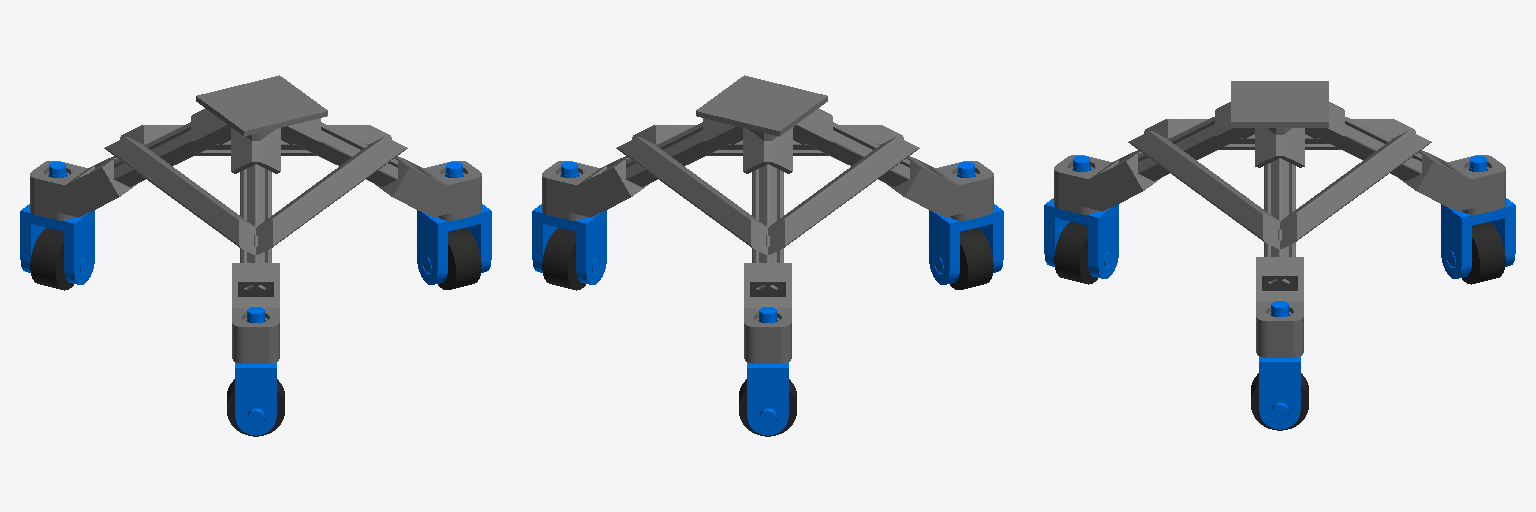
The robot description file, URDF, robot "robot_3d3s":
<?xml version="1.0" encoding="utf-8"?>
<!--
  3-wheeled 3D3S omnidirectional robot
  Each leg: base_link -> steering_N_link (revolute, vertical axis) -> wheel_N_link (continuous)
  Generated using SolidWorks URDF Exporter, edited for correct limits and inertia.
-->
<robot name="robot_3d3s">

  <!-- ====================== BASE FOOTPRINT ====================== -->
  <!-- Virtual ground-plane link at wheel-contact height (z≈0 from base_link). -->
  <link name="base_footprint"/>
  <joint name="base_footprint_joint" type="fixed">
    <origin xyz="0 0 0" rpy="0 0 0"/>
    <parent link="base_footprint"/>
    <child link="base_link"/>
  </joint>

  <!-- ======================== BASE LINK ======================== -->
  <!-- Main robot body. All three steering legs attach here. -->
  <link name="base_link">
    <inertial>
      <origin xyz="0.00054034 5.1289E-09 0.28559" rpy="0 0 0" />
      <mass value="6.0461" />
      <inertia
        ixx="0.02261"  ixy="1.2023E-09" ixz="2.1633E-10"
        iyy="0.02261"  iyz="-4.0683E-10"
        izz="0.039117" />
    </inertial>
    <visual>
      <origin xyz="0 0 0" rpy="0 0 0" />
      <geometry>
        <mesh filename="package://robot_3d3s/meshes/base_link.STL" />
      </geometry>
      <material name="">
        <color rgba="0.5 0.5 0.5 1" />
      </material>
    </visual>
    <collision>
      <origin xyz="0 0 0" rpy="0 0 0" />
      <geometry>
        <mesh filename="package://robot_3d3s/meshes/base_link.STL" />
      </geometry>
    </collision>
  </link>

  <!-- ==================== LEG 1 — STEERING ==================== -->
  <!-- Steering assembly for wheel 1 (front). Rotates around vertical Z axis. -->
  <link name="steering_1_link">
    <inertial>
      <origin xyz="0.00045928 -9.1606E-12 0.12605" rpy="0 0 0" />
      <mass value="0.53024" />
      <inertia
        ixx="0.00056656"  ixy="-1.8538E-13" ixz="-7.4564E-08"
        iyy="0.00052285"  iyz="7.8557E-14"
        izz="0.00030054" />
    </inertial>
    <visual>
      <origin xyz="0 0 0" rpy="0 0 0" />
      <geometry>
        <mesh filename="package://robot_3d3s/meshes/steering_1_link.STL" />
      </geometry>
      <material name="">
        <color rgba="0 0.5 1 1" />
      </material>
    </visual>
    <collision>
      <origin xyz="0 0 0" rpy="0 0 0" />
      <geometry>
        <mesh filename="package://robot_3d3s/meshes/steering_1_link.STL" />
      </geometry>
    </collision>
  </link>

  <!--
    Steering joint 1 — revolute around local Z (vertical axis after parent transform).
    Limits: ±2.618 rad (±150°) giving a 300° total range to avoid body collision.
  -->
  <joint name="steering_1_joint" type="revolute">
    <origin xyz="0.38905 0 0.225" rpy="3.1416 0 0" />
    <parent link="base_link" />
    <child  link="steering_1_link" />
    <axis xyz="0 0 1" />
    <limit lower="-2.618" upper="2.618" effort="10" velocity="10" />
  </joint>

  <!-- ==================== LEG 1 — WHEEL ==================== -->
  <!-- Drive wheel 1. Continuous joint — spins freely around its axle. -->
  <link name="wheel_1_link">
    <inertial>
      <origin xyz="-0.025 -2.7756E-17 -5.2963E-19" rpy="0 0 0" />
      <mass value="0.3566" />
      <inertia
        ixx="0.00048671"  ixy="2.1534E-20"  ixz="-6.1158E-21"
        iyy="0.00031774"  iyz="-2.7551E-22"
        izz="0.00031755" />
    </inertial>
    <visual>
      <origin xyz="0 0 0" rpy="0 0 0" />
      <geometry>
        <mesh filename="package://robot_3d3s/meshes/wheel_1_link.STL" />
      </geometry>
      <material name="">
        <color rgba="0.2 0.2 0.2 1" />
      </material>
    </visual>
    <collision>
      <origin xyz="-0.025 0 0" rpy="0 1.5708 0" />
      <geometry>
        <cylinder radius="0.05" length="0.05"/>
      </geometry>
    </collision>
  </link>

  <!-- Wheel 1 spins around the X axis of this joint frame (perpendicular to wheel face). -->
  <joint name="wheel_1_joint" type="continuous">
    <origin xyz="0.025 0 0.17497" rpy="-1.5708 0 0" />
    <parent link="steering_1_link" />
    <child  link="wheel_1_link" />
    <axis xyz="1 0 0" />
    <limit effort="10" velocity="10" />
  </joint>

  <!-- ==================== LEG 2 — STEERING ==================== -->
  <!-- Steering assembly for wheel 2 (rear-left), offset 120° from leg 1. -->
  <link name="steering_2_link">
    <inertial>
      <origin xyz="0.00045928 -8.9114E-12 0.12605" rpy="0 0 0" />
      <mass value="0.53024" />
      <inertia
        ixx="0.00056656"  ixy="-1.8531E-13" ixz="-7.4564E-08"
        iyy="0.00052285"  iyz="7.8355E-14"
        izz="0.00030054" />
    </inertial>
    <visual>
      <origin xyz="0 0 0" rpy="0 0 0" />
      <geometry>
        <mesh filename="package://robot_3d3s/meshes/steering_2_link.STL" />
      </geometry>
      <material name="">
        <color rgba="0 0.5 1 1" />
      </material>
    </visual>
    <collision>
      <origin xyz="0 0 0" rpy="0 0 0" />
      <geometry>
        <mesh filename="package://robot_3d3s/meshes/steering_2_link.STL" />
      </geometry>
    </collision>
  </link>

  <!-- Steering joint 2 — same limits as joint 1. -->
  <joint name="steering_2_joint" type="revolute">
    <origin xyz="-0.19453 0.33693 0.225" rpy="3.1416 0 2.0944" />
    <parent link="base_link" />
    <child  link="steering_2_link" />
    <axis xyz="0 0 1" />
    <limit lower="-2.618" upper="2.618" effort="10" velocity="10" />
  </joint>

  <!-- ==================== LEG 2 — WHEEL ==================== -->
  <!-- Drive wheel 2 — continuous, same inertia as wheel 1. -->
  <link name="wheel_2_link">
    <inertial>
      <origin xyz="-0.025 0 5.5511E-17" rpy="0 0 0" />
      <mass value="0.3566" />
      <inertia
        ixx="0.00048671"  ixy="2.2267E-20"  ixz="4.0658E-20"
        iyy="0.00031774"  iyz="-9.0783E-22"
        izz="0.00031755" />
    </inertial>
    <visual>
      <origin xyz="0 0 0" rpy="0 0 0" />
      <geometry>
        <mesh filename="package://robot_3d3s/meshes/wheel_2_link.STL" />
      </geometry>
      <material name="">
        <color rgba="0.2 0.2 0.2 1" />
      </material>
    </visual>
    <collision>
      <origin xyz="-0.025 0 0" rpy="0 1.5708 0" />
      <geometry>
        <cylinder radius="0.05" length="0.05"/>
      </geometry>
    </collision>
  </link>

  <joint name="wheel_2_joint" type="continuous">
    <origin xyz="0.025 0 0.17497" rpy="-1.5708 0 0" />
    <parent link="steering_2_link" />
    <child  link="wheel_2_link" />
    <axis xyz="1 0 0" />
    <limit effort="10" velocity="10" />
  </joint>

  <!-- ==================== LEG 3 — STEERING ==================== -->
  <!--
    Steering assembly for wheel 3 (rear-right), offset 240° from leg 1.
    NOTE: SolidWorks exported zero inertia for this link — fixed by using the
    same measured values as steering_1 and steering_2 (identical part).
  -->
  <link name="steering_3_link">
    <inertial>
      <origin xyz="0.00045928 -9.1606E-12 0.12605" rpy="0 0 0" />
      <mass value="0.53024" />
      <inertia
        ixx="0.00056656"  ixy="-1.8538E-13" ixz="-7.4564E-08"
        iyy="0.00052285"  iyz="7.8557E-14"
        izz="0.00030054" />
    </inertial>
    <visual>
      <origin xyz="0 0 0" rpy="0 0 0" />
      <geometry>
        <mesh filename="package://robot_3d3s/meshes/steering_3_link.STL" />
      </geometry>
      <material name="">
        <color rgba="0 0.5 1 1" />
      </material>
    </visual>
    <collision>
      <origin xyz="0 0 0" rpy="0 0 0" />
      <geometry>
        <mesh filename="package://robot_3d3s/meshes/steering_3_link.STL" />
      </geometry>
    </collision>
  </link>

  <!-- Steering joint 3 — same limits as joints 1 and 2. -->
  <joint name="steering_3_joint" type="revolute">
    <origin xyz="-0.19453 -0.33693 0.225" rpy="3.1416 0 -2.0944" />
    <parent link="base_link" />
    <child  link="steering_3_link" />
    <axis xyz="0 0 1" />
    <limit lower="-2.618" upper="2.618" effort="10" velocity="10" />
  </joint>

  <!-- ==================== LEG 3 — WHEEL ==================== -->
  <!-- Drive wheel 3 — continuous, same inertia as wheels 1 and 2. -->
  <link name="wheel_3_link">
    <inertial>
      <origin xyz="-0.025 -2.7756E-17 0" rpy="0 0 0" />
      <mass value="0.3566" />
      <inertia
        ixx="0.00048671"  ixy="2.3818E-20"  ixz="2.7105E-20"
        iyy="0.00031774"  iyz="-1.7287E-21"
        izz="0.00031755" />
    </inertial>
    <visual>
      <origin xyz="0 0 0" rpy="0 0 0" />
      <geometry>
        <mesh filename="package://robot_3d3s/meshes/wheel_3_link.STL" />
      </geometry>
      <material name="">
        <color rgba="0.2 0.2 0.2 1" />
      </material>
    </visual>
    <collision>
      <origin xyz="-0.025 0 0" rpy="0 1.5708 0" />
      <geometry>
        <cylinder radius="0.05" length="0.05"/>
      </geometry>
    </collision>
  </link>

  <joint name="wheel_3_joint" type="continuous">
    <origin xyz="0.025 0 0.17497" rpy="-1.5708 0 0" />
    <parent link="steering_3_link" />
    <child  link="wheel_3_link" />
    <axis xyz="1 0 0" />
    <limit effort="10" velocity="10" />
  </joint>


  <!-- =================== ros2_control — Gazebo simulation hardware =================== -->
  <ros2_control name="robot_3d3s" type="system">
    <hardware>
      <plugin>gz_ros2_control/GazeboSimSystem</plugin>
    </hardware>

    <joint name="steering_1_joint">
      <command_interface name="position">
        <param name="min">-2.618</param>
        <param name="max"> 2.618</param>
      </command_interface>
      <state_interface name="position"/>
      <state_interface name="velocity"/>
    </joint>
    <joint name="steering_2_joint">
      <command_interface name="position">
        <param name="min">-2.618</param>
        <param name="max"> 2.618</param>
      </command_interface>
      <state_interface name="position"/>
      <state_interface name="velocity"/>
    </joint>
    <joint name="steering_3_joint">
      <command_interface name="position">
        <param name="min">-2.618</param>
        <param name="max"> 2.618</param>
      </command_interface>
      <state_interface name="position"/>
      <state_interface name="velocity"/>
    </joint>

    <joint name="wheel_1_joint">
      <command_interface name="velocity"/>
      <state_interface name="position"/>
      <state_interface name="velocity"/>
    </joint>
    <joint name="wheel_2_joint">
      <command_interface name="velocity"/>
      <state_interface name="position"/>
      <state_interface name="velocity"/>
    </joint>
    <joint name="wheel_3_joint">
      <command_interface name="velocity"/>
      <state_interface name="position"/>
      <state_interface name="velocity"/>
    </joint>
  </ros2_control>

  <!-- gz_ros2_control Gazebo plugin — controllers.yaml path injected by gazebo.launch.py -->
  <gazebo>
    <plugin filename="gz_ros2_control-system"
            name="gz_ros2_control::GazeboSimROS2ControlPlugin">
      <parameters>CONTROLLERS_YAML_PATH</parameters>
    </plugin>
  </gazebo>

</robot>

--- Render facts (derived) ---
The picture shows the robot from 3 angles, left to right: view 1: azimuth 30°, elevation 25°; view 2: azimuth 150°, elevation 25°; view 3: azimuth 270°, elevation 25°; orthographic projection.
Robot: robot_3d3s — 8 links, 7 joints (3 revolute, 3 continuous, 1 fixed); root link base_footprint; default pose: every joint at zero.
Visible links, largest first — view 1: base_link, steering_1_link, steering_2_link, steering_3_link, wheel_2_link, wheel_1_link, wheel_3_link; view 2: base_link, steering_1_link, steering_3_link, steering_2_link, wheel_1_link, wheel_3_link, wheel_2_link; view 3: base_link, steering_2_link, steering_3_link, steering_1_link, wheel_2_link, wheel_3_link, wheel_1_link.
Boxes of the visible links, <box> form: base_link: <box>30,75,481,363</box>; steering_1_link: <box>417,162,491,284</box>; steering_2_link: <box>20,162,94,284</box>; steering_3_link: <box>235,307,276,435</box>; wheel_2_link: <box>30,228,73,290</box>; wheel_1_link: <box>438,228,481,289</box>; wheel_3_link: <box>227,379,284,436</box>; base_link: <box>542,75,993,363</box>; steering_1_link: <box>532,162,606,284</box>; steering_3_link: <box>929,162,1003,284</box>; steering_2_link: <box>747,307,788,435</box>; wheel_1_link: <box>542,228,585,290</box>; wheel_3_link: <box>950,228,993,289</box>; wheel_2_link: <box>739,379,796,436</box>; base_link: <box>1054,81,1505,357</box>; steering_2_link: <box>1441,156,1515,278</box>; steering_3_link: <box>1044,156,1118,278</box>; steering_1_link: <box>1259,301,1300,429</box>; wheel_2_link: <box>1462,222,1505,284</box>; wheel_3_link: <box>1054,222,1097,284</box>; wheel_1_link: <box>1251,373,1308,430</box>.
Bounding box of the posed robot: 0.7004 × 0.8007 × 0.4291 m (x, y, z).
7 mesh visuals loaded from 7 distinct referenced files (7 binary STL).
